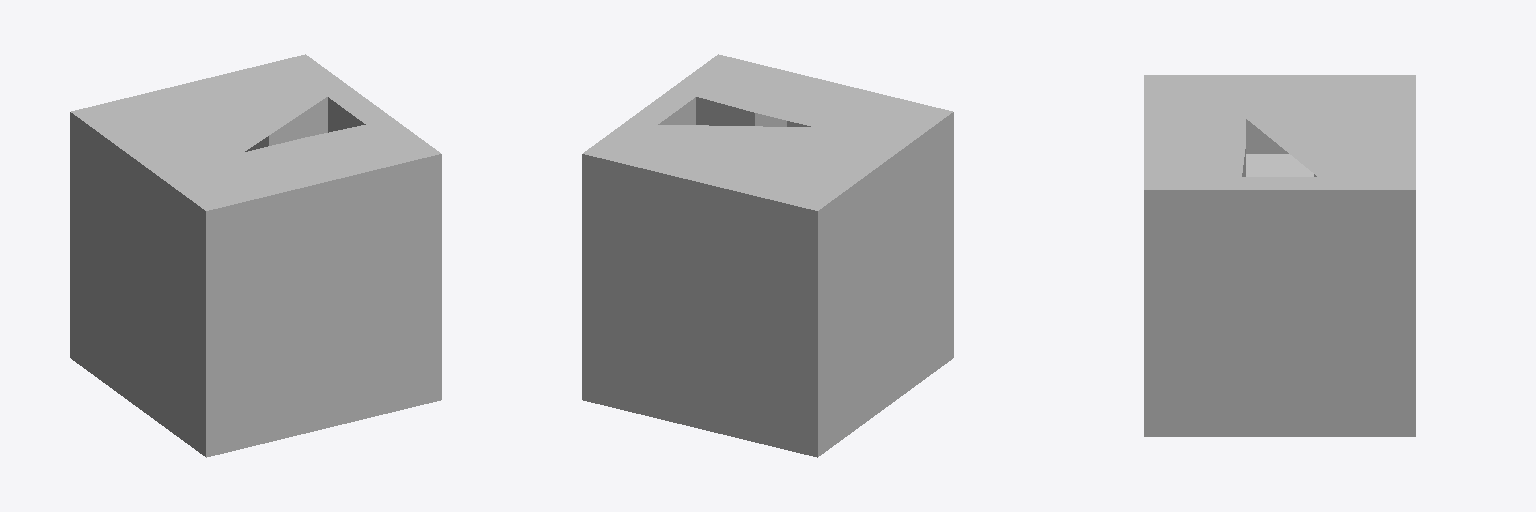
Rendered from Cross_cube_bottle.obj.
3 views of the same model, side by side, from view 1: azimuth 30°, elevation 25°; view 2: azimuth 150°, elevation 25°; view 3: azimuth 270°, elevation 25° (orthographic).
Parts seen in each view (by area): view 1: Bottle.001_Cube.003; view 2: Bottle.001_Cube.003; view 3: Bottle.001_Cube.003.
Part boxes in pixels (x1,y1,x2,y2): Bottle.001_Cube.003: (70,54,441,457); Bottle.001_Cube.003: (582,54,953,457); Bottle.001_Cube.003: (1144,75,1415,436).
Bounding box in the file's own units: 0.08 × 0.08 × 0.08.